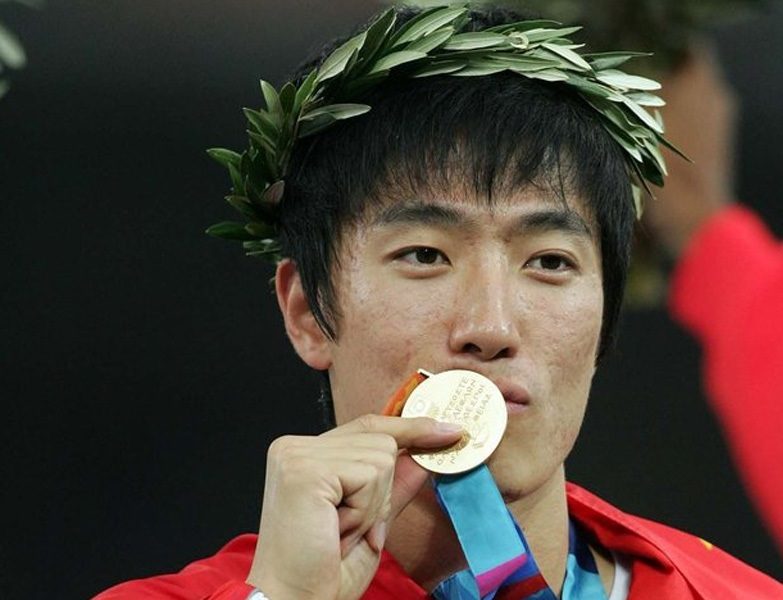face: (322, 133, 611, 494)
